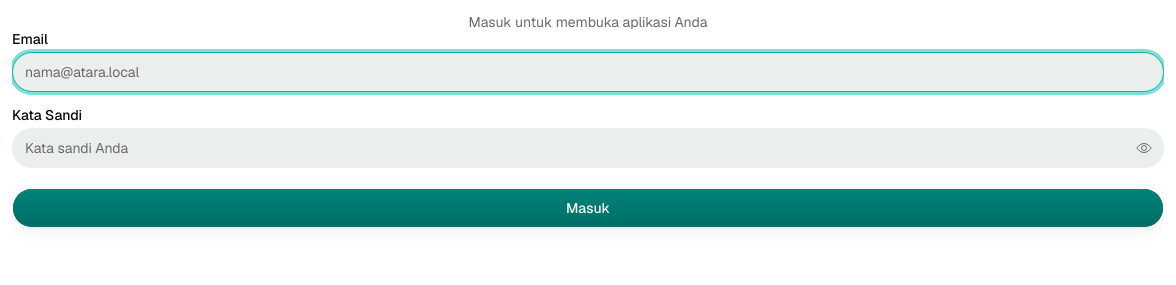
Test: LoginForm › the second factor › offers a choice when the account has a face and an authenticator
In the field labelled "Email": x=588, y=72 [12,52,1164,92], type "sari@atara.local"
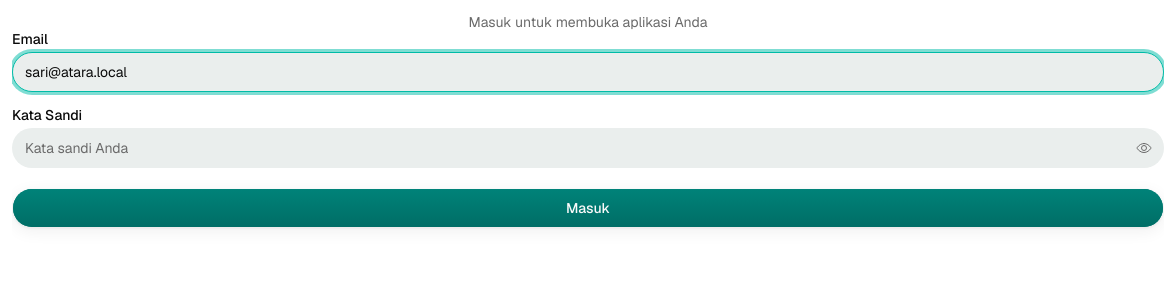
In the password field labelled "Kata Sandi": x=588, y=148 [12,128,1164,168], type "Preparator123!"
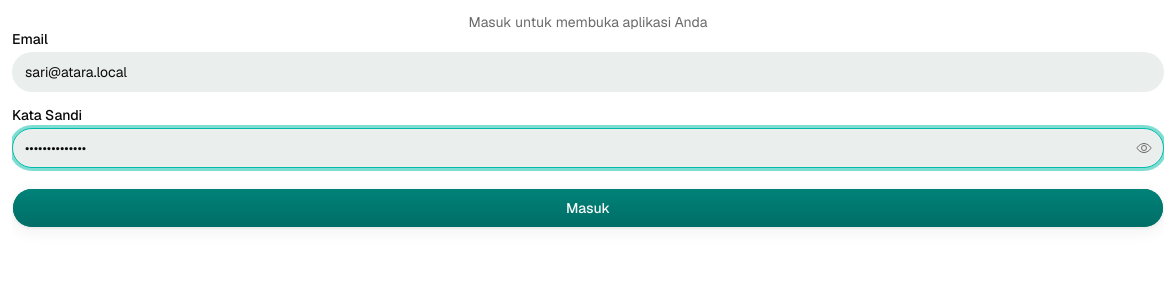
Click the button "Masuk": x=588, y=208 [12,188,1164,228]
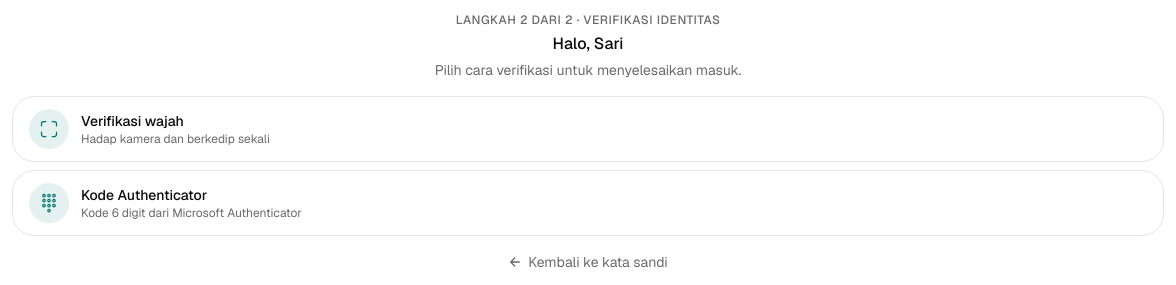
expect the button "Verifikasi wajah Hadap kamera dan berkedip sekali" is shown: met, box [12,96,1164,162]
expect the button "Kode Authenticator Kode 6 digit dari Microsoft Authenticator" is shown: met, box [12,170,1164,236]
